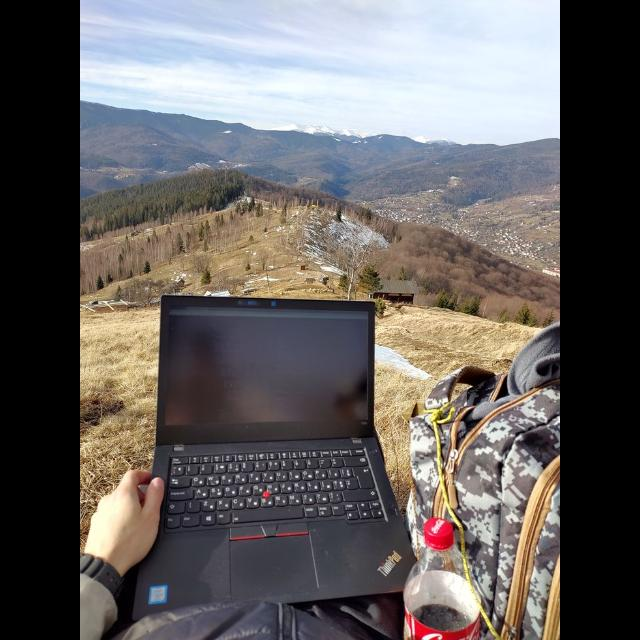laptop: (133, 296, 414, 619)
